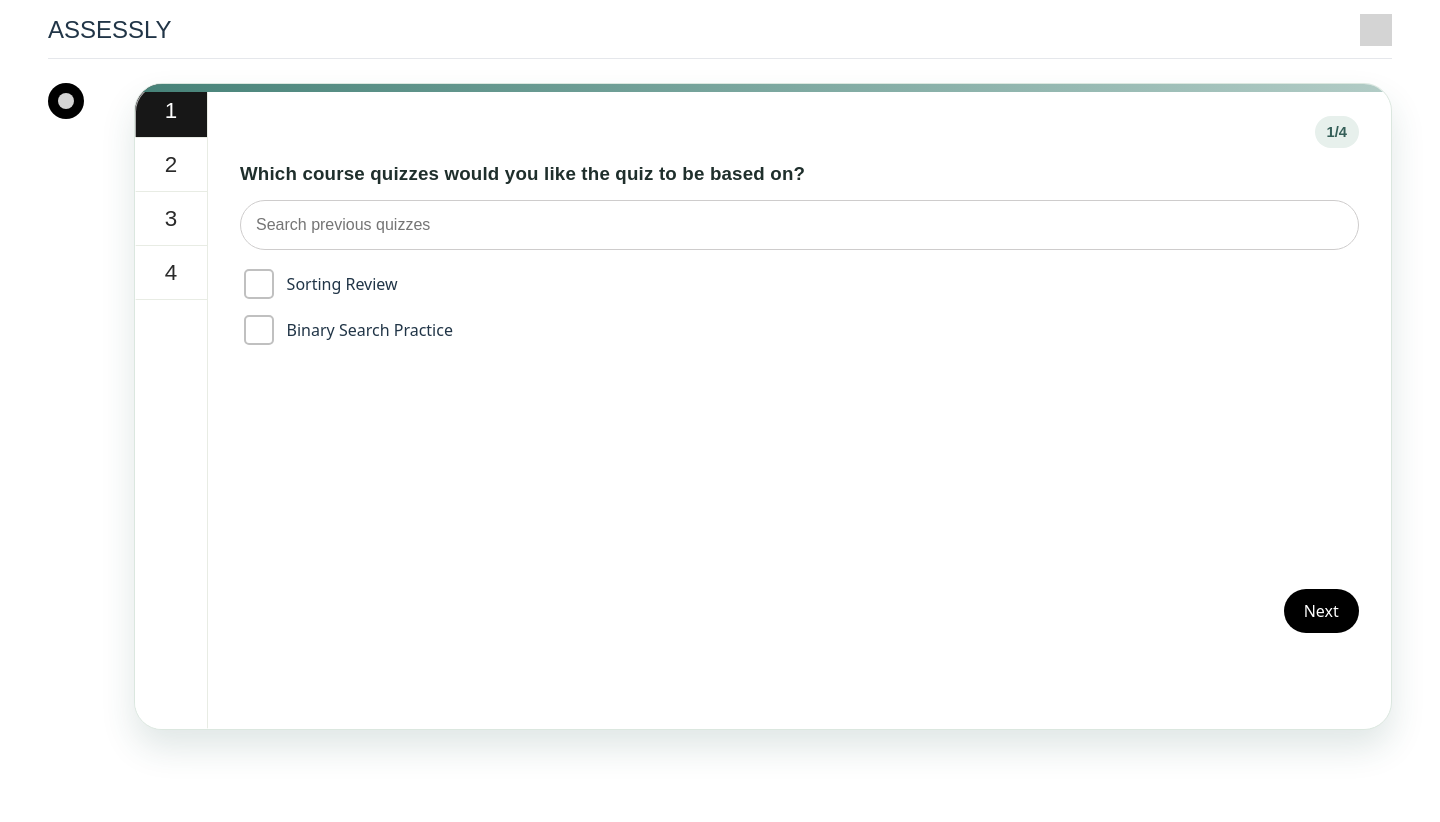
Test case: QuizStructure page › filters quizzes and materials through search inputs
Expected: the text "Sorting Review" is shown, [244,269,398,299]
Expected: the text "Binary Search Practice" is shown, [244,315,453,345]
In the field labelled "Search previous quizzes": point(800, 225) [240,200,1359,250], type "binary"
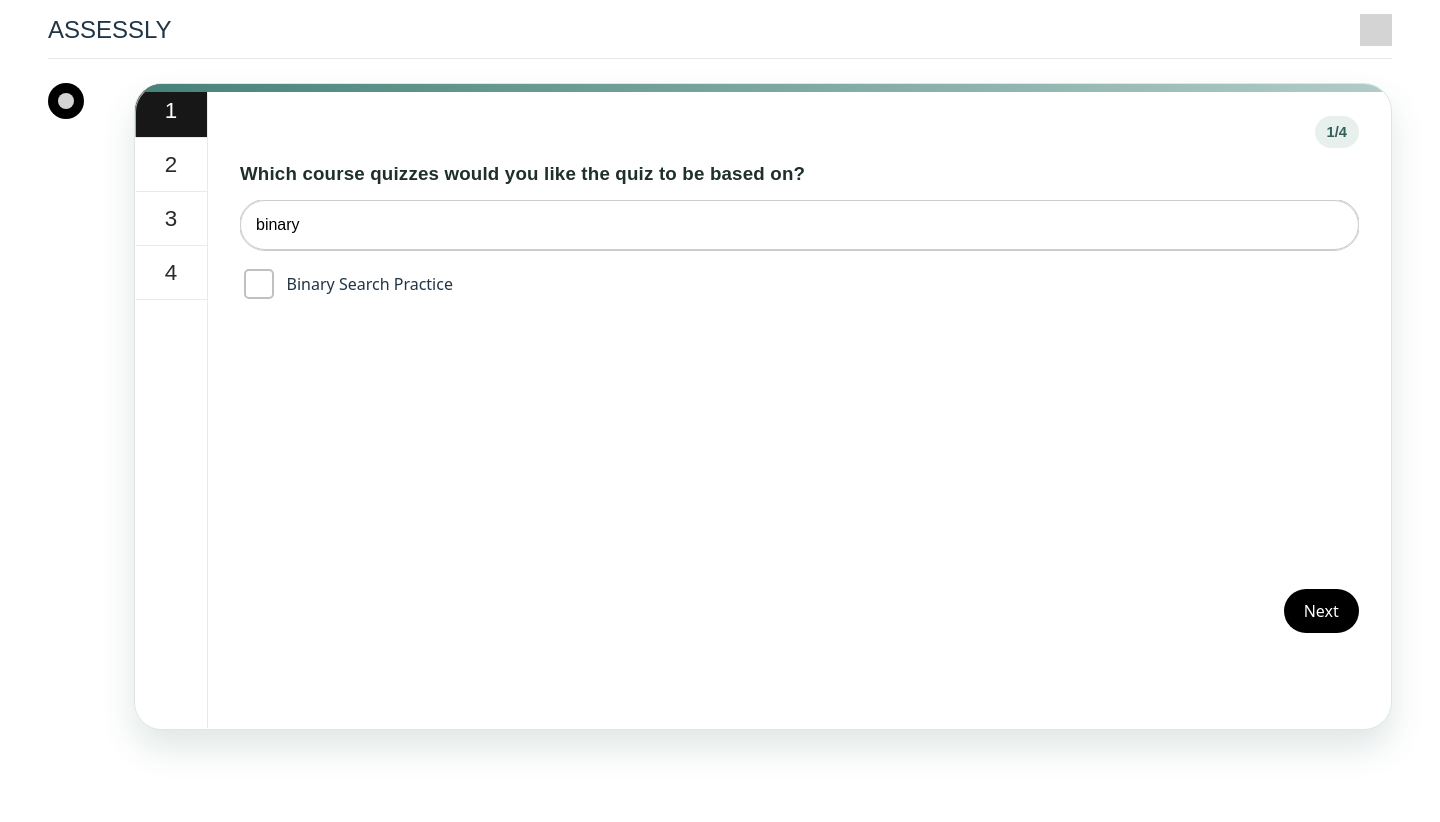
Expected: the text "Binary Search Practice" is shown, [244,269,453,299]
Expected: the text "Sorting Review" is gone
Click the button "Next": point(1321, 611) [1284,589,1359,633]
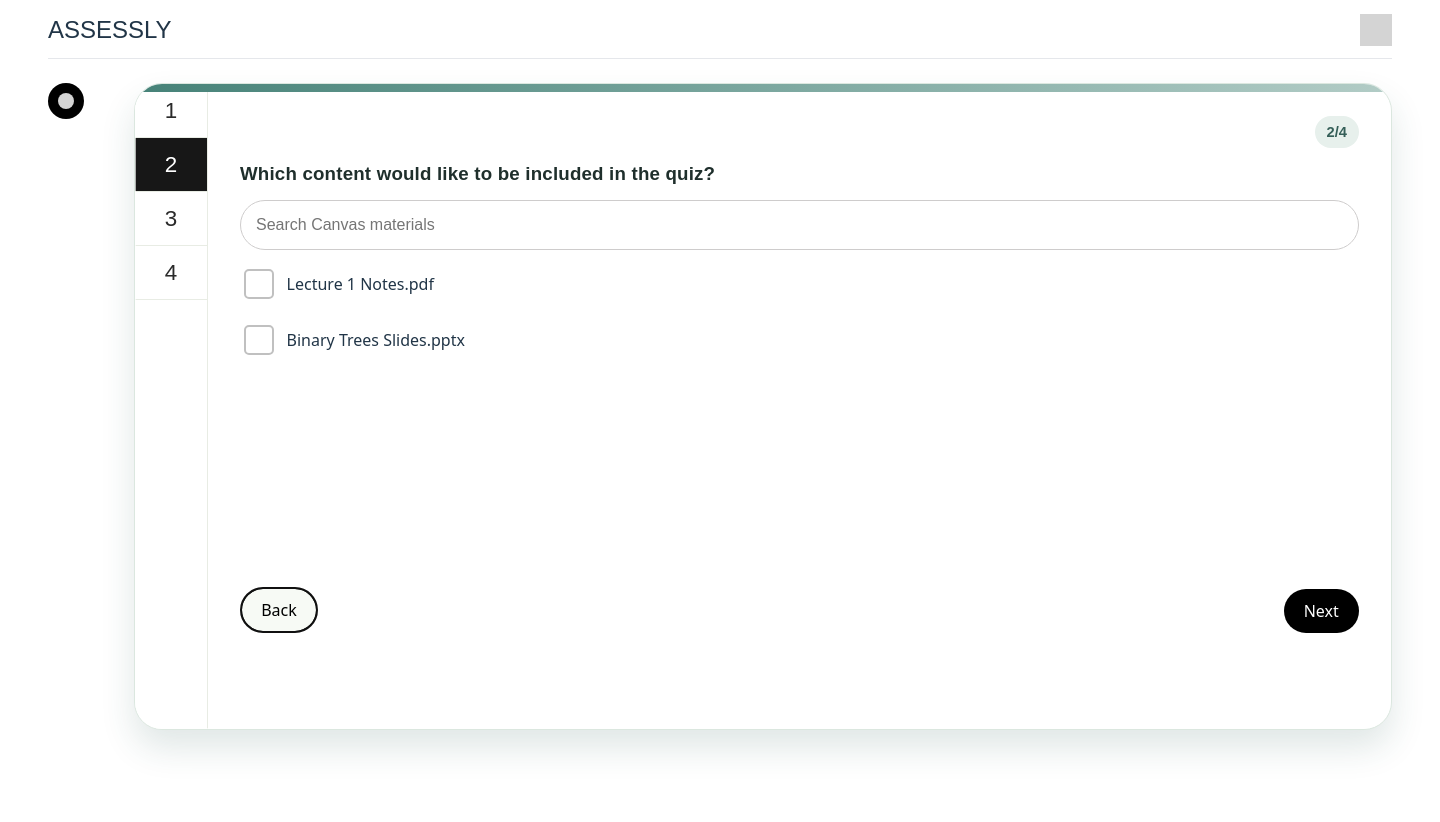
Expected: the heading "Which content would like to be included in the quiz?" is shown, [240,160,715,188]
Expected: the text "Lecture 1 Notes.pdf" is shown, [240,266,434,302]
Expected: the text "Binary Trees Slides.pptx" is shown, [240,322,465,358]
In the field named "Search materials": point(800, 225) [240,200,1359,250], type "trees"
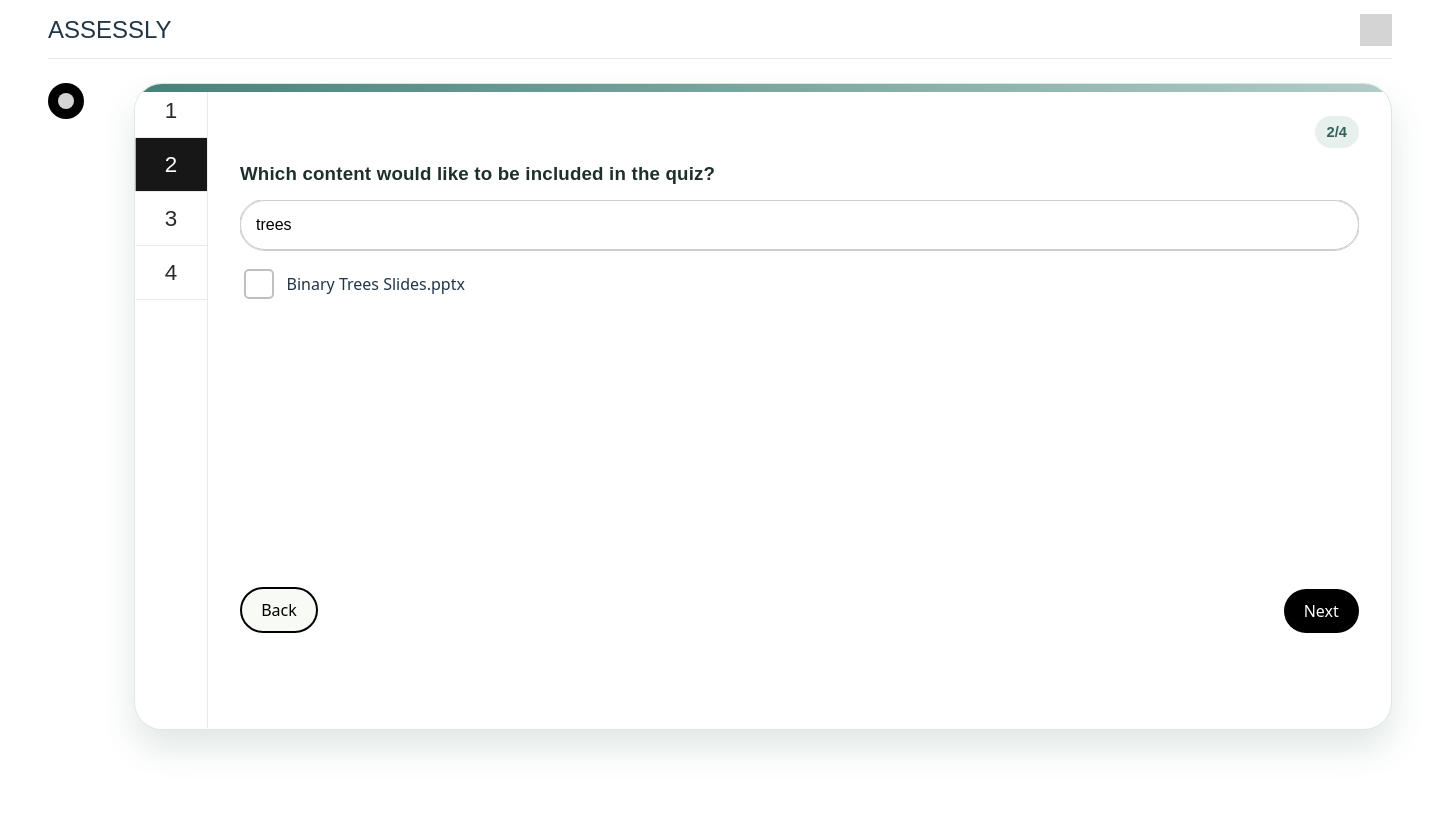
Expected: the text "Binary Trees Slides.pptx" is shown, [240,266,465,302]
Expected: the text "Lecture 1 Notes.pdf" is gone
